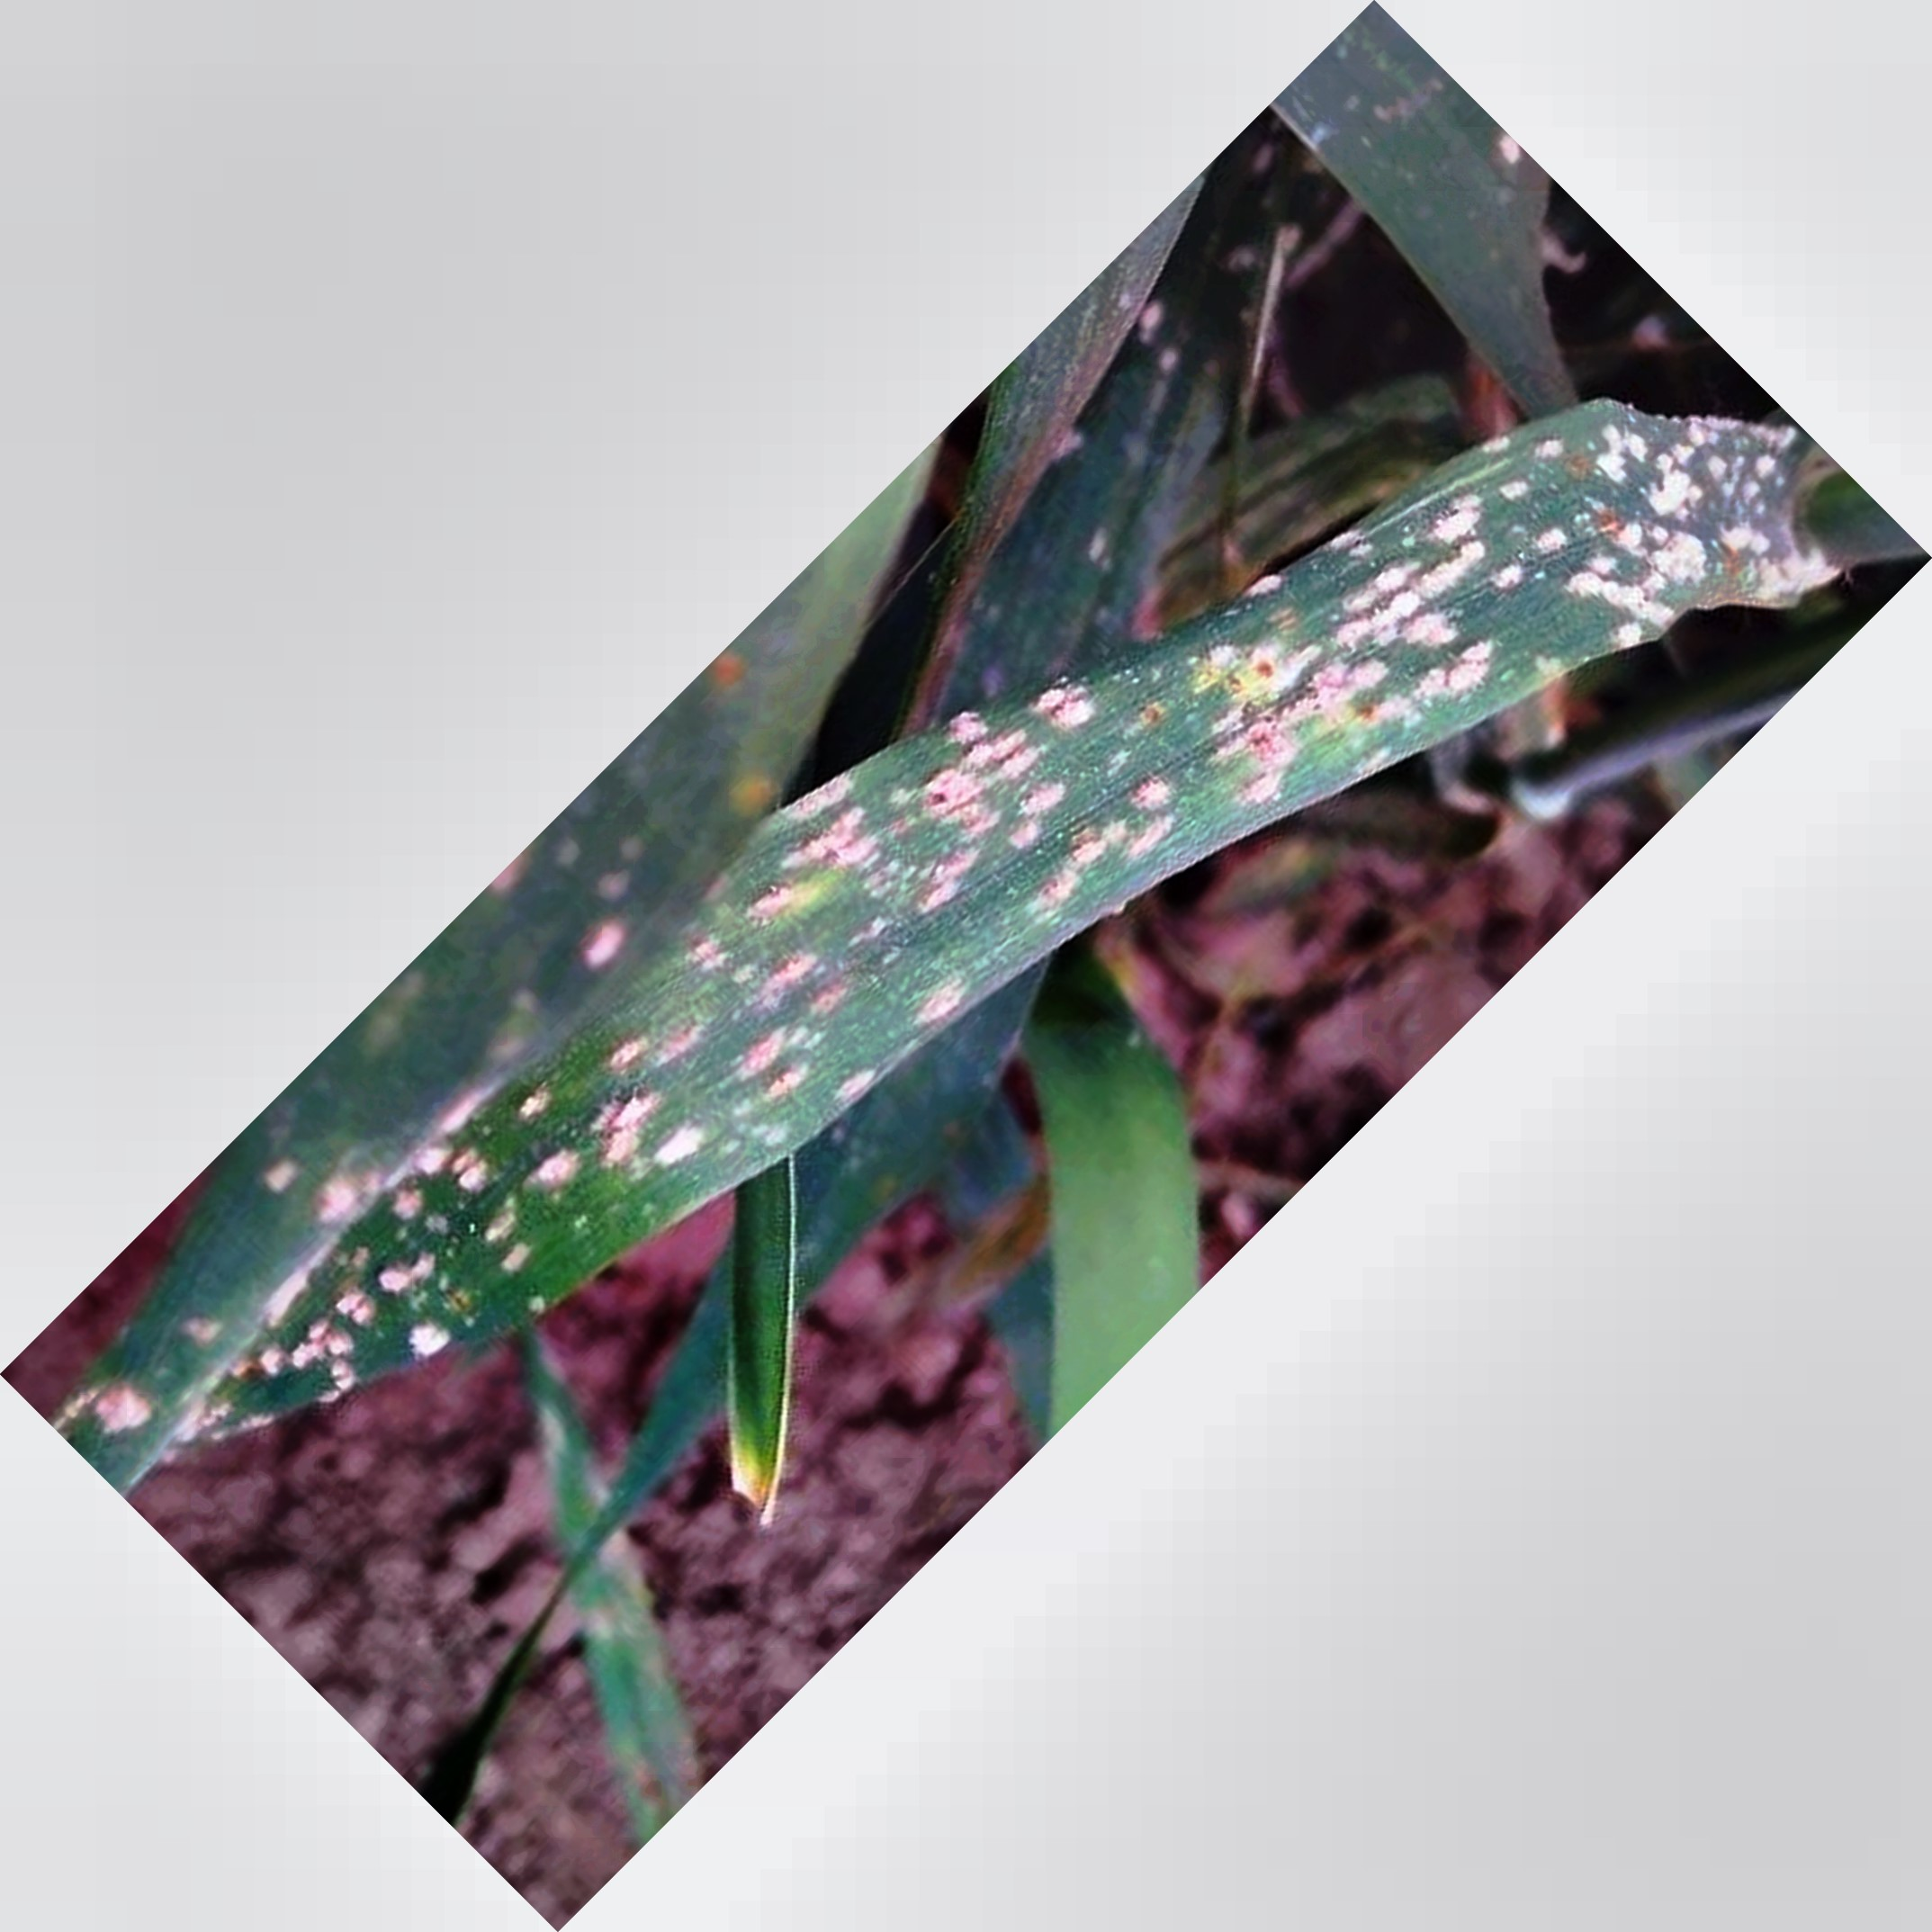Powdery Mildew: (398, 400, 1730, 1256)
